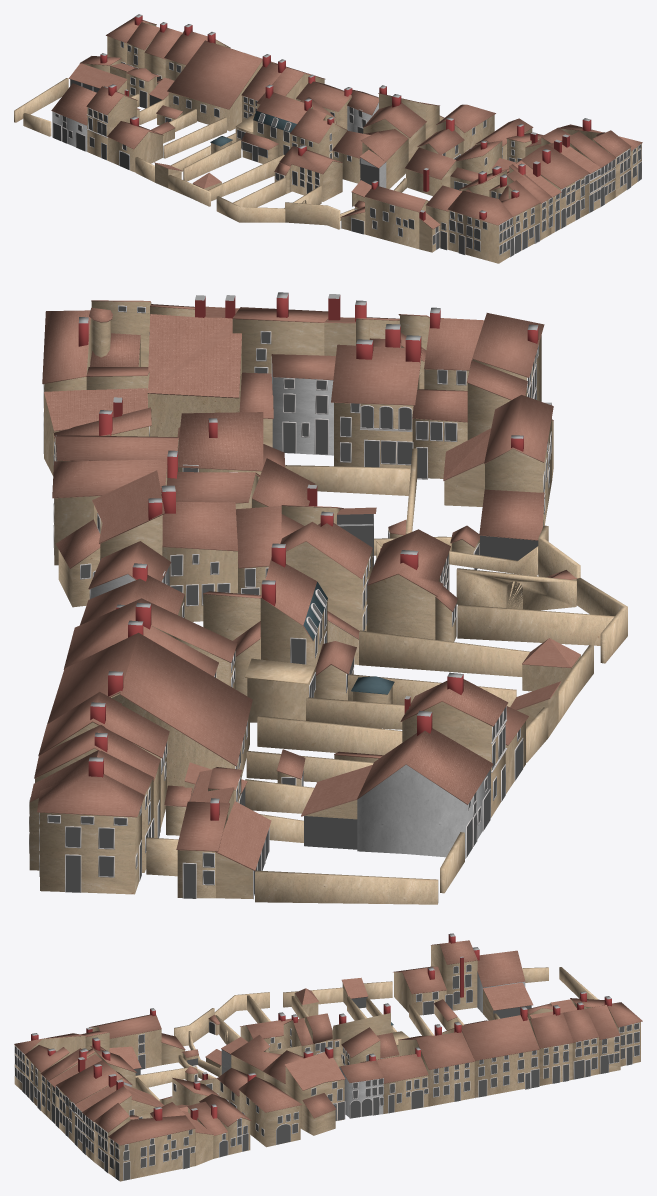
File: ilot47combine.fbx
3 views of the same model, one above another, from view 1: azimuth 30°, elevation 25°; view 2: azimuth 150°, elevation 25°; view 3: azimuth 270°, elevation 25° (orthographic). The views are drawn at different scales.
Visible parts, largest first — view 1: _ILOT47BAT1, _ILOT47BAT6, _ILOT47BAT58, _ILOT47BAT59, _ILOT47BAT75, _ILOT47BAT41, _ILOT47BAT18, _ILOT47BAT20, _ILOT47BAT17, _ILOT47BAT5, _ILOT47BAT53, _ILOT47BAT40 (+44 smaller); view 2: _ILOT47BAT1, _ILOT47BAT5, _ILOT47BAT7, _ILOT47BAT28, _ILOT47BAT25, _ILOT47BAT2, _ILOT47BAT41, _ILOT47BAT20, _ILOT47BAT75, _ILOT47BAT18, _ILOT47BAT27, _ILOT47BAT40 (+64 smaller); view 3: _ILOT47BAT1, _ILOT47BAT88, _ILOT47BAT20, _ILOT47BAT23, _ILOT47BAT22, _ILOT47BAT83, _ILOT47BAT75, _ILOT47BAT21, _ILOT47BAT58, _ILOT47BAT59, _ILOT47BAT79, _ILOT47BAT17 (+40 smaller).
Part boxes in pixels (x1,y1,x2,y2): _ILOT47BAT1: (167, 32, 277, 131); _ILOT47BAT6: (447, 190, 514, 263); _ILOT47BAT58: (364, 180, 428, 248); _ILOT47BAT59: (521, 144, 589, 228); _ILOT47BAT75: (86, 84, 137, 160); _ILOT47BAT41: (279, 145, 342, 201); _ILOT47BAT18: (253, 84, 312, 156); _ILOT47BAT20: (241, 54, 325, 121); _ILOT47BAT17: (107, 116, 163, 172); _ILOT47BAT5: (51, 83, 107, 151); _ILOT47BAT53: (501, 180, 540, 254); _ILOT47BAT40: (290, 108, 347, 158); _ILOT47BAT1: (47, 632, 252, 789); _ILOT47BAT5: (357, 710, 493, 858); _ILOT47BAT7: (37, 757, 144, 894); _ILOT47BAT28: (331, 335, 422, 467); _ILOT47BAT25: (147, 295, 241, 436); _ILOT47BAT2: (161, 485, 237, 621); _ILOT47BAT41: (367, 529, 450, 639); _ILOT47BAT20: (63, 598, 237, 689); _ILOT47BAT75: (400, 672, 508, 817); _ILOT47BAT18: (260, 543, 327, 665); _ILOT47BAT27: (271, 354, 335, 455); _ILOT47BAT40: (280, 511, 372, 631); _ILOT47BAT1: (442, 1006, 539, 1097); _ILOT47BAT88: (108, 1106, 195, 1181); _ILOT47BAT20: (398, 1022, 478, 1106); _ILOT47BAT23: (238, 1076, 302, 1147); _ILOT47BAT22: (284, 1046, 345, 1129); _ILOT47BAT83: (360, 1047, 428, 1113); _ILOT47BAT75: (431, 933, 477, 1010); _ILOT47BAT21: (528, 1005, 573, 1085); _ILOT47BAT58: (89, 1008, 161, 1069); _ILOT47BAT59: (55, 1060, 122, 1143); _ILOT47BAT79: (339, 1060, 383, 1118); _ILOT47BAT17: (393, 966, 446, 1015).
Size of the model in its own units: 19.92 by 3.26 by 25.81.
